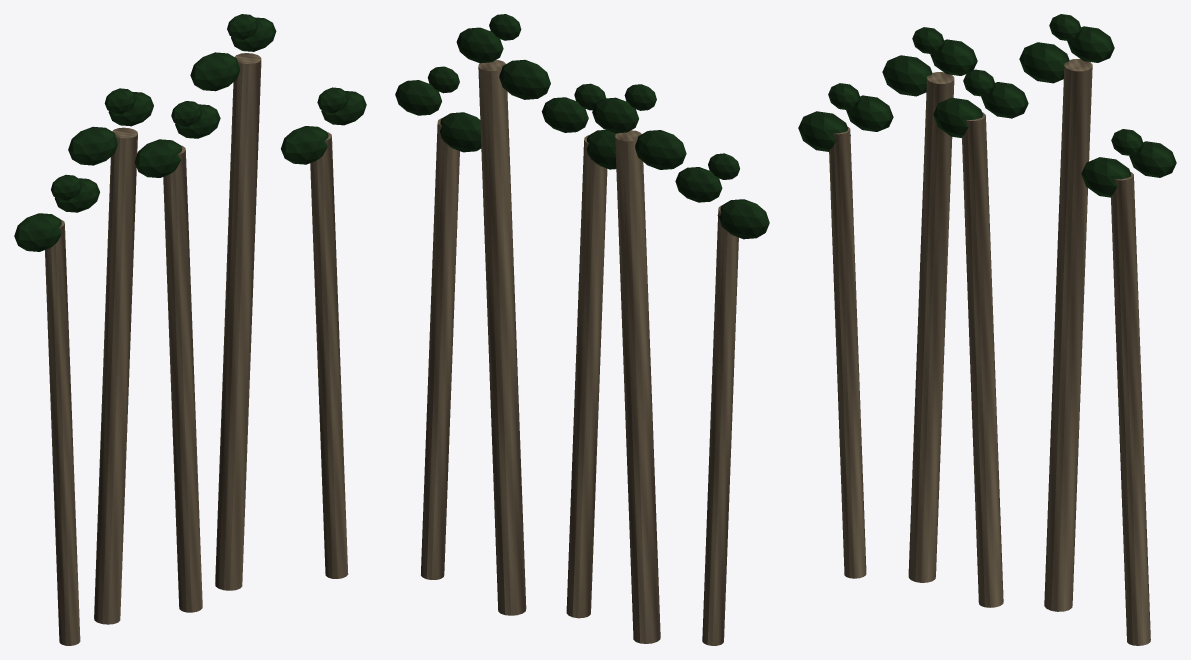
The model's file is garden_v0_18_external_context_model_r2.glb.
The picture shows the model from 3 angles, left to right: view 1: azimuth 30°, elevation 25°; view 2: azimuth 150°, elevation 25°; view 3: azimuth 330°, elevation 25°; orthographic projection. The views are drawn at different scales.
Visible parts, largest first — view 1: V018_EXTERNAL__GUM_04__TRUNK, V018_EXTERNAL__GUM_02__TRUNK, V018_EXTERNAL__GUM_03__TRUNK, V018_EXTERNAL__GUM_05__TRUNK, V018_EXTERNAL__GUM_01__TRUNK, V018_EXTERNAL__GUM_04__CROWN_1, V018_EXTERNAL__GUM_02__CROWN_1, V018_EXTERNAL__GUM_01__CROWN_1, V018_EXTERNAL__GUM_05__CROWN_1, V018_EXTERNAL__GUM_03__CROWN_1, V018_EXTERNAL__GUM_03__CROWN_2, V018_EXTERNAL__GUM_04__CROWN_2 (+8 smaller); view 2: V018_EXTERNAL__GUM_04__TRUNK, V018_EXTERNAL__GUM_02__TRUNK, V018_EXTERNAL__GUM_03__TRUNK, V018_EXTERNAL__GUM_05__TRUNK, V018_EXTERNAL__GUM_01__TRUNK, V018_EXTERNAL__GUM_02__CROWN_1, V018_EXTERNAL__GUM_04__CROWN_1, V018_EXTERNAL__GUM_01__CROWN_1, V018_EXTERNAL__GUM_05__CROWN_1, V018_EXTERNAL__GUM_01__CROWN_2, V018_EXTERNAL__GUM_03__CROWN_2, V018_EXTERNAL__GUM_04__CROWN_2 (+8 smaller); view 3: V018_EXTERNAL__GUM_04__TRUNK, V018_EXTERNAL__GUM_02__TRUNK, V018_EXTERNAL__GUM_03__TRUNK, V018_EXTERNAL__GUM_05__TRUNK, V018_EXTERNAL__GUM_01__TRUNK, V018_EXTERNAL__GUM_04__CROWN_1, V018_EXTERNAL__GUM_02__CROWN_1, V018_EXTERNAL__GUM_01__CROWN_1, V018_EXTERNAL__GUM_05__CROWN_1, V018_EXTERNAL__GUM_03__CROWN_1, V018_EXTERNAL__GUM_03__CROWN_2, V018_EXTERNAL__GUM_05__CROWN_2 (+8 smaller).
Boxes of the visible parts, x1,y1,x2,y2 form: V018_EXTERNAL__GUM_04__TRUNK: [215, 53, 261, 590]; V018_EXTERNAL__GUM_02__TRUNK: [94, 127, 137, 624]; V018_EXTERNAL__GUM_03__TRUNK: [163, 145, 202, 612]; V018_EXTERNAL__GUM_05__TRUNK: [310, 132, 348, 578]; V018_EXTERNAL__GUM_01__TRUNK: [45, 220, 80, 645]; V018_EXTERNAL__GUM_04__CROWN_1: [190, 52, 239, 91]; V018_EXTERNAL__GUM_02__CROWN_1: [68, 126, 117, 165]; V018_EXTERNAL__GUM_01__CROWN_1: [14, 213, 61, 251]; V018_EXTERNAL__GUM_05__CROWN_1: [281, 126, 328, 164]; V018_EXTERNAL__GUM_03__CROWN_1: [134, 139, 181, 177]; V018_EXTERNAL__GUM_03__CROWN_2: [175, 104, 220, 138]; V018_EXTERNAL__GUM_04__CROWN_2: [231, 17, 276, 51]; V018_EXTERNAL__GUM_04__TRUNK: [478, 60, 526, 615]; V018_EXTERNAL__GUM_02__TRUNK: [615, 130, 660, 643]; V018_EXTERNAL__GUM_03__TRUNK: [566, 135, 607, 618]; V018_EXTERNAL__GUM_05__TRUNK: [421, 118, 459, 579]; V018_EXTERNAL__GUM_01__TRUNK: [702, 205, 738, 645]; V018_EXTERNAL__GUM_02__CROWN_1: [635, 130, 686, 169]; V018_EXTERNAL__GUM_04__CROWN_1: [499, 59, 550, 99]; V018_EXTERNAL__GUM_01__CROWN_1: [717, 199, 769, 239]; V018_EXTERNAL__GUM_05__CROWN_1: [440, 112, 481, 152]; V018_EXTERNAL__GUM_01__CROWN_2: [675, 167, 722, 202]; V018_EXTERNAL__GUM_03__CROWN_2: [541, 97, 588, 132]; V018_EXTERNAL__GUM_04__CROWN_2: [456, 27, 503, 63]; V018_EXTERNAL__GUM_04__TRUNK: [1044, 59, 1092, 611]; V018_EXTERNAL__GUM_02__TRUNK: [908, 72, 954, 582]; V018_EXTERNAL__GUM_03__TRUNK: [962, 112, 1003, 607]; V018_EXTERNAL__GUM_05__TRUNK: [1111, 172, 1150, 645]; V018_EXTERNAL__GUM_01__TRUNK: [829, 127, 866, 578]; V018_EXTERNAL__GUM_04__CROWN_1: [1019, 42, 1069, 83]; V018_EXTERNAL__GUM_02__CROWN_1: [882, 55, 932, 96]; V018_EXTERNAL__GUM_01__CROWN_1: [798, 111, 850, 151]; V018_EXTERNAL__GUM_05__CROWN_1: [1081, 157, 1130, 197]; V018_EXTERNAL__GUM_03__CROWN_1: [933, 97, 982, 137]; V018_EXTERNAL__GUM_03__CROWN_2: [981, 82, 1028, 118]; V018_EXTERNAL__GUM_05__CROWN_2: [1129, 141, 1176, 177].
Bounding box in the file's own units: 9.18 × 14.21 × 1.7.
2 materials, 2 textured.
